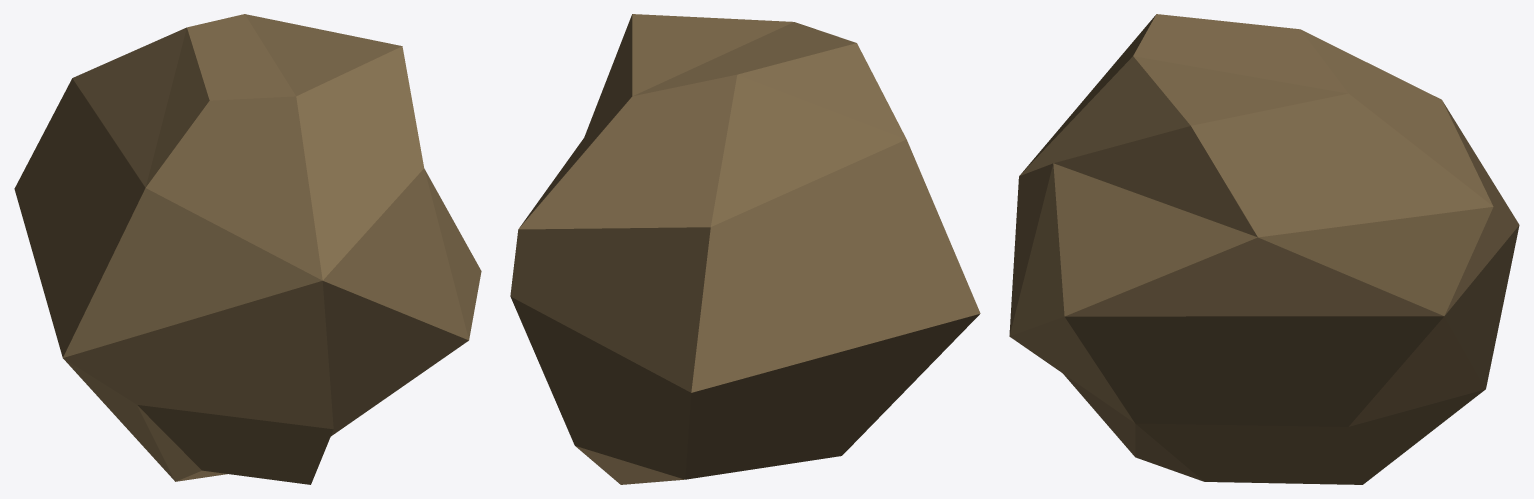
File: LightRockMechMediumBoulder2.fbx
3 views of the same model, side by side, from view 1: azimuth 30°, elevation 25°; view 2: azimuth 150°, elevation 25°; view 3: azimuth 270°, elevation 25° (orthographic).
Visible parts, largest first — view 1: LightRockMechMediumBoulder2; view 2: LightRockMechMediumBoulder2; view 3: LightRockMechMediumBoulder2.
Boxes of the visible parts, left/top/right/bottom form: LightRockMechMediumBoulder2: left=14, top=14, right=481, bottom=484; LightRockMechMediumBoulder2: left=510, top=14, right=980, bottom=484; LightRockMechMediumBoulder2: left=1009, top=14, right=1519, bottom=484.
Bounding box in the file's own units: 317 × 349 × 387.
